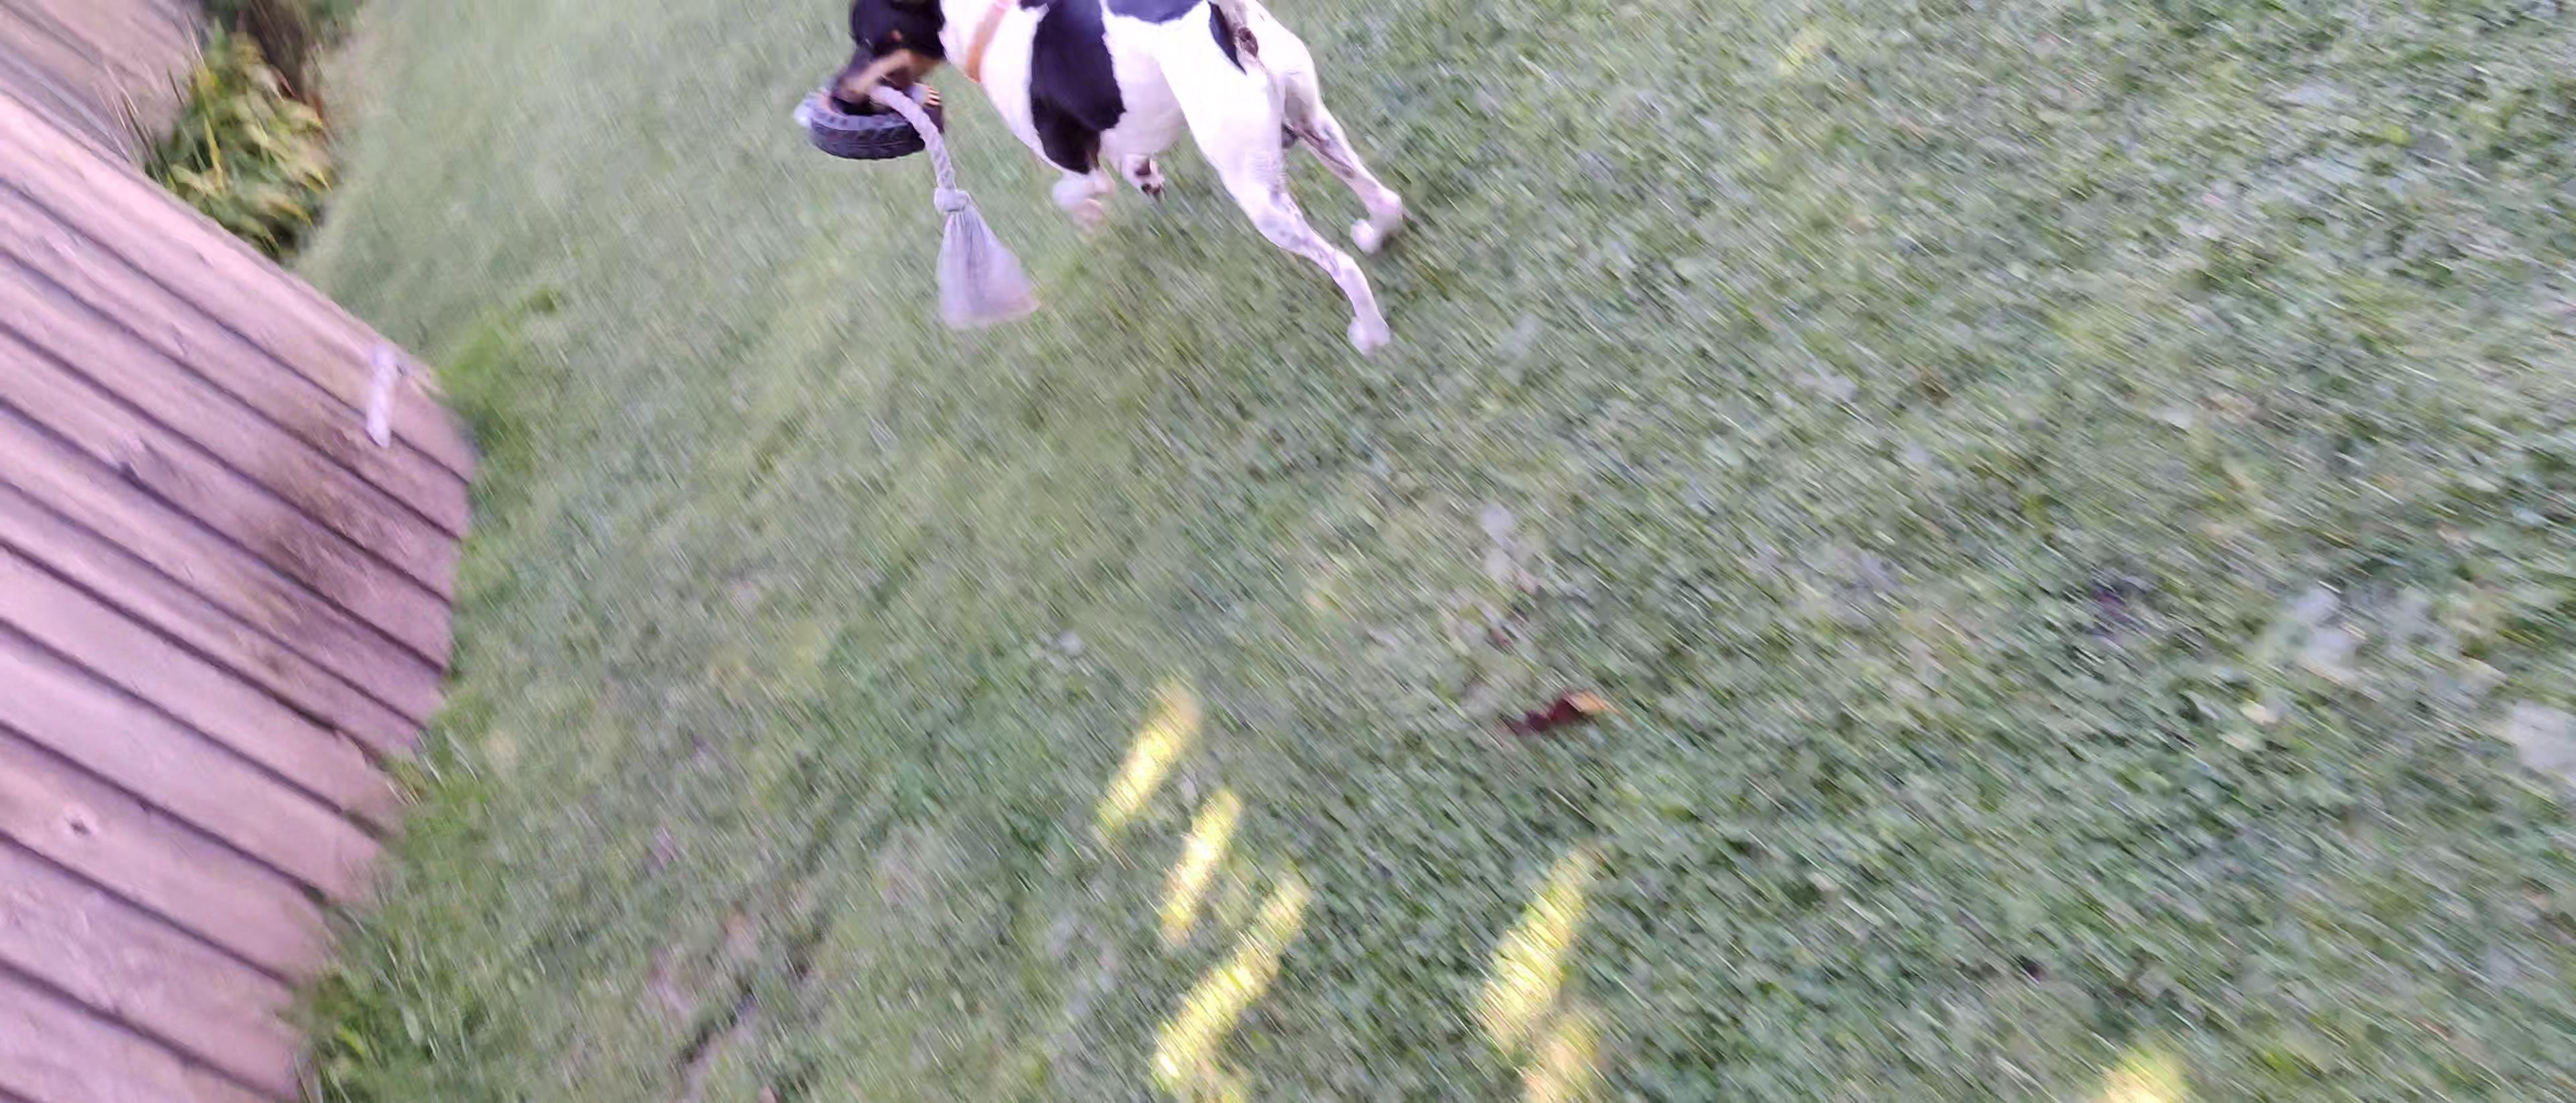Dog: (808, 0, 1421, 368)
